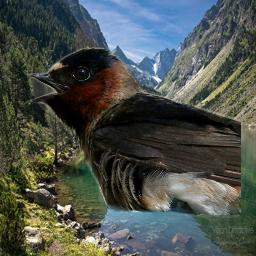Swallow: (25, 47, 241, 218)
